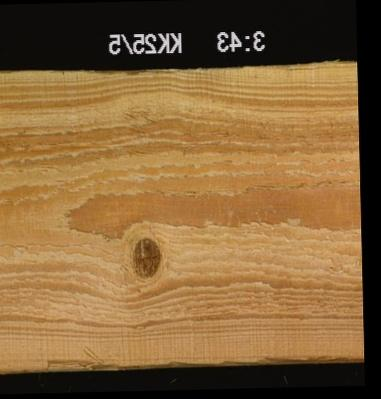sound_knot: (128, 235, 162, 278)
wave: (41, 355, 363, 368), (72, 64, 277, 74)
